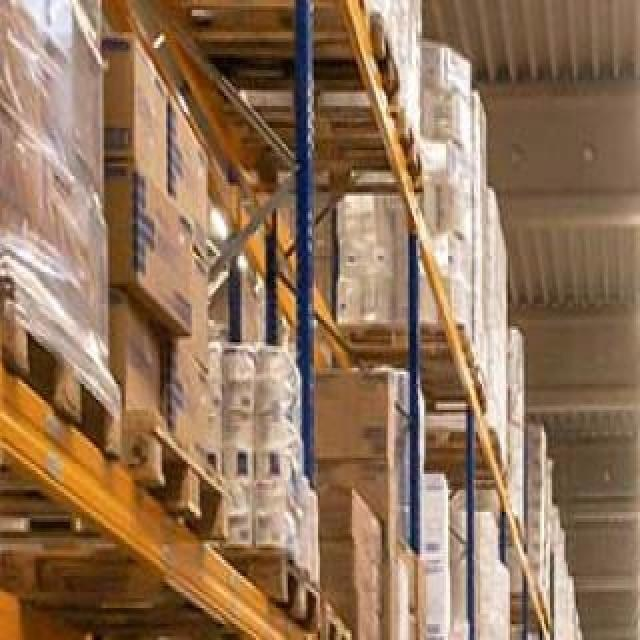fluorescent tube: (636, 62, 640, 168), (632, 420, 640, 464), (636, 282, 640, 348), (634, 506, 640, 536), (632, 614, 640, 636), (636, 462, 640, 504), (638, 196, 640, 268), (636, 538, 640, 566), (636, 590, 640, 616), (638, 362, 640, 412), (638, 568, 640, 592), (634, 638, 640, 640)
